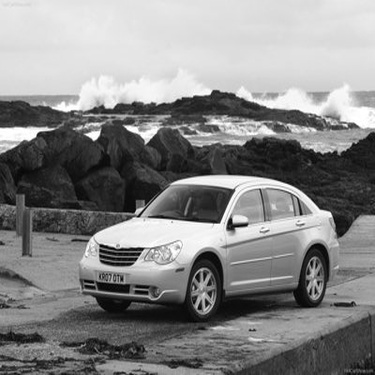car: (71, 166, 348, 318)
